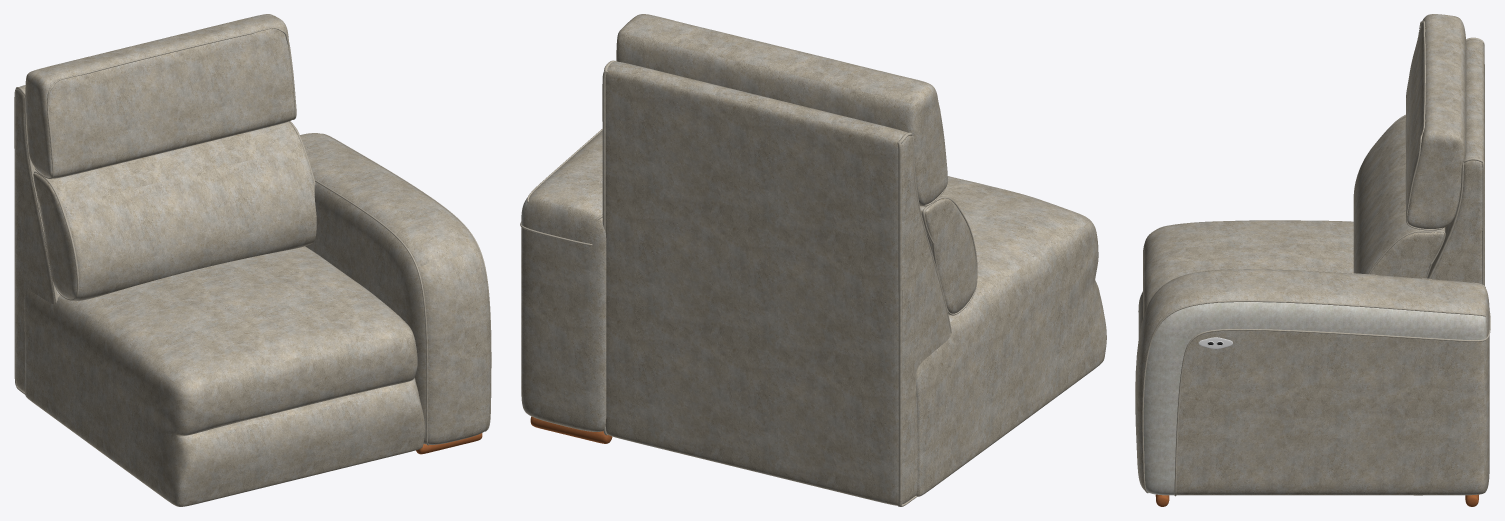
File: arm.glb
3 views of the same model, side by side, from view 1: azimuth 30°, elevation 25°; view 2: azimuth 150°, elevation 25°; view 3: azimuth 270°, elevation 25° (orthographic). The views are drawn at different scales.
Visible parts, largest first — view 1: D=~ 0,01 m; view 2: D=~ 0,01 m, object 4; view 3: D=~ 0,01 m, object 5.
Part boxes in pixels (x1,y1,x2,y2): D=~ 0,01 m: (14, 14, 491, 506); D=~ 0,01 m: (520, 14, 1106, 506); object 4: (530, 416, 612, 443); D=~ 0,01 m: (1135, 14, 1490, 496); object 5: (1143, 302, 1486, 495).
Size of the model in its own units: 1.01 by 1.03 by 0.959.
5 materials, 3 textured.
